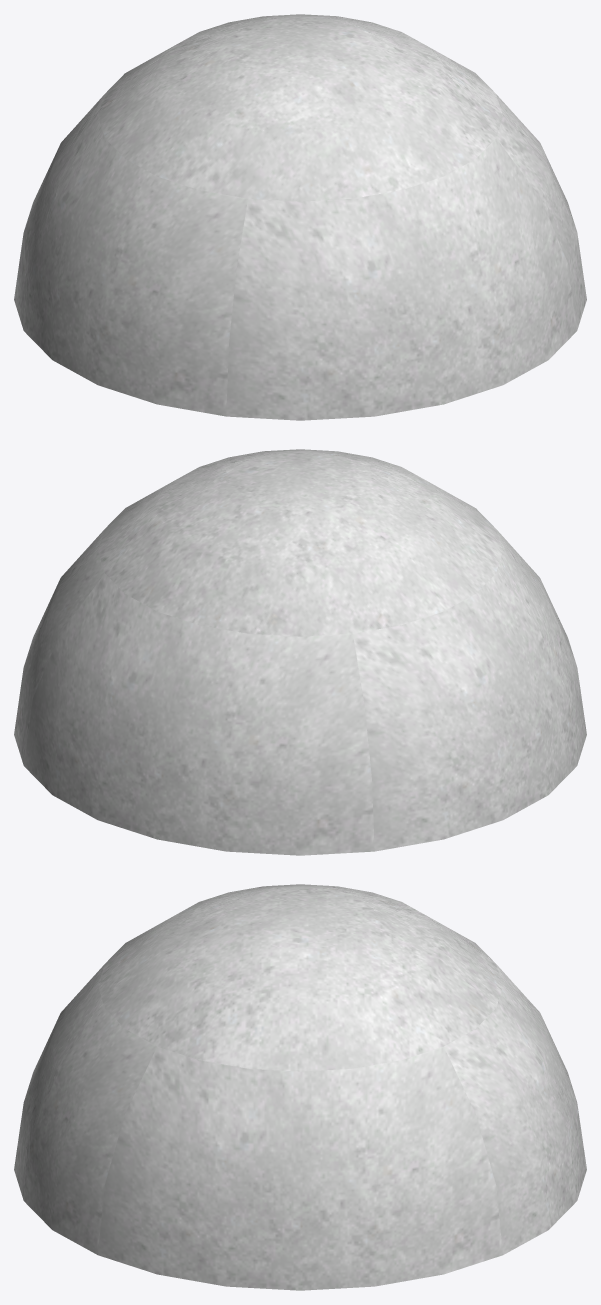
File: halfsphere.obj
3 views of the same model, one above another, from view 1: azimuth 30°, elevation 25°; view 2: azimuth 150°, elevation 25°; view 3: azimuth 270°, elevation 25° (orthographic).
Visible parts, largest first — view 1: Halfsphere1; view 2: Halfsphere1; view 3: Halfsphere1.
Boxes of the visible parts, x1=… form: Halfsphere1: x1=14, y1=14, x2=586, y2=420; Halfsphere1: x1=14, y1=449, x2=586, y2=855; Halfsphere1: x1=14, y1=884, x2=586, y2=1290.
Size of the model in its own units: 2 by 1 by 2.
Materials: 1 (1 with a texture image).
